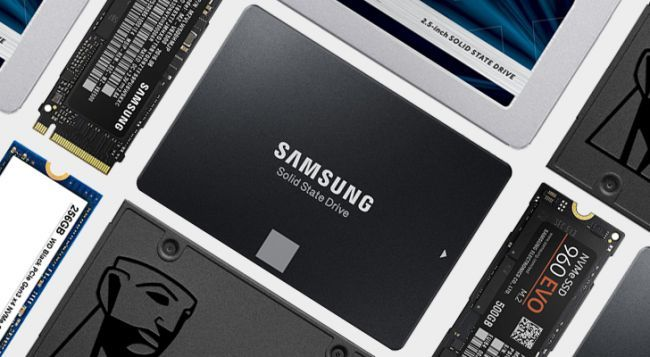samsung-hdd-240gb: (135, 12, 517, 346)
